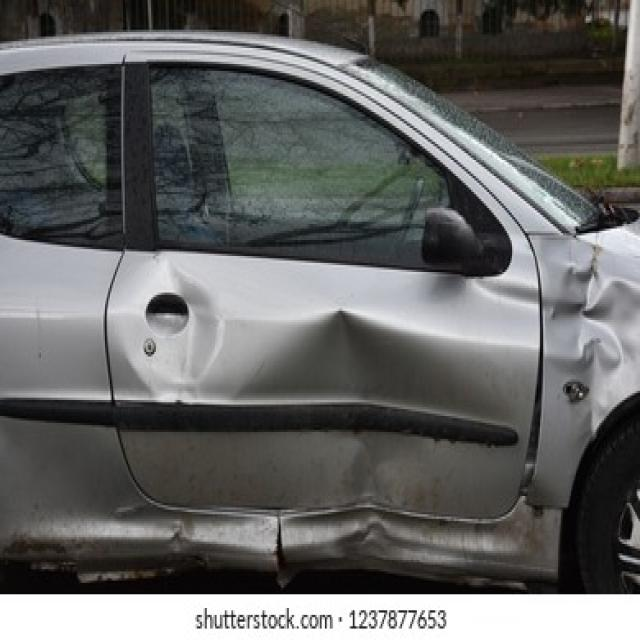crush: (0, 223, 640, 586)
